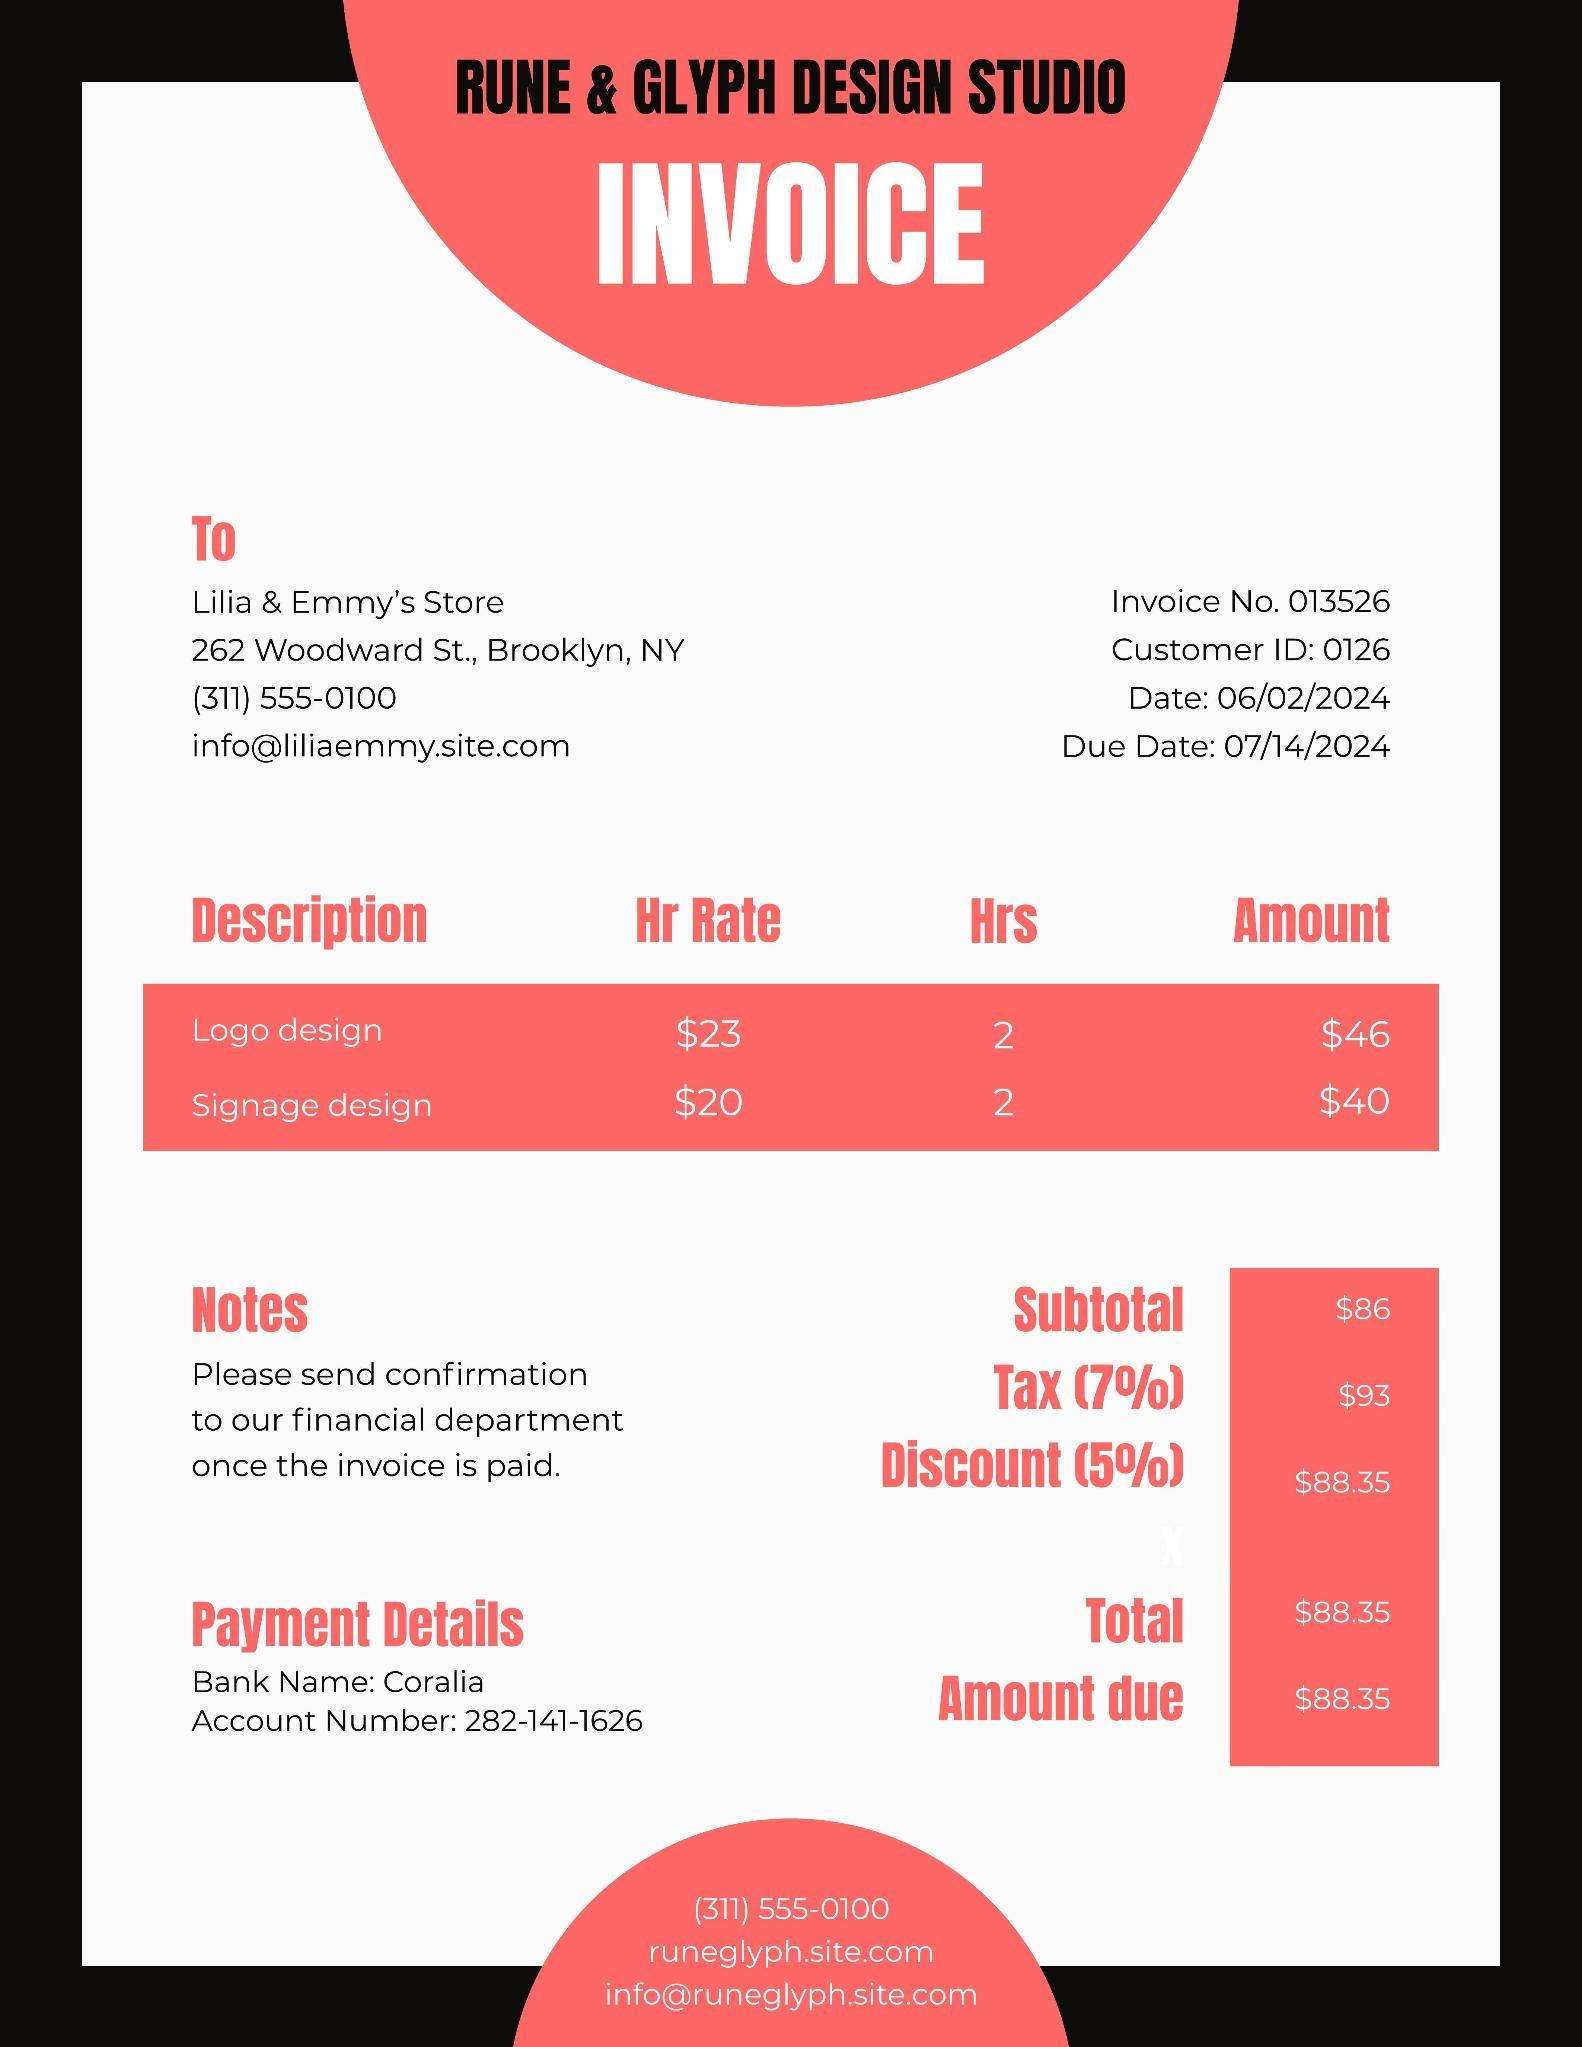ROI: (103, 841, 1442, 1211), (864, 1253, 1457, 1826), (140, 497, 748, 791), (135, 1258, 680, 1510), (143, 1568, 710, 1781), (1024, 560, 1432, 789), (415, 7, 1177, 130), (548, 140, 1034, 306), (587, 1853, 1000, 2040)
